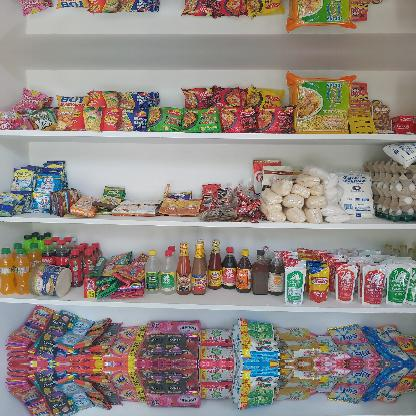Lady-s-Choice: (26, 260, 72, 296)
